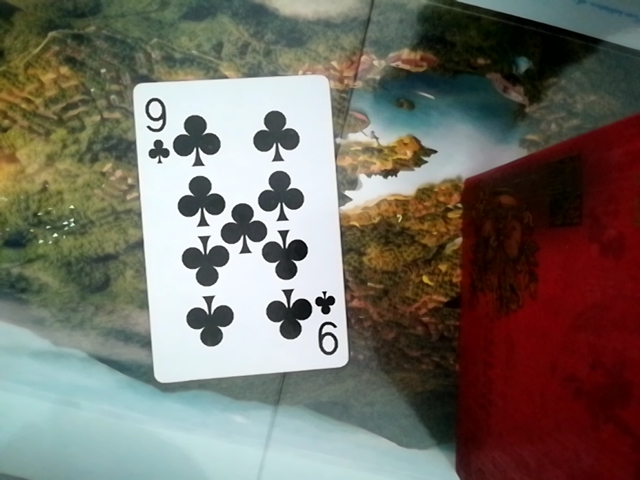mh 9: (123, 64, 351, 382)
